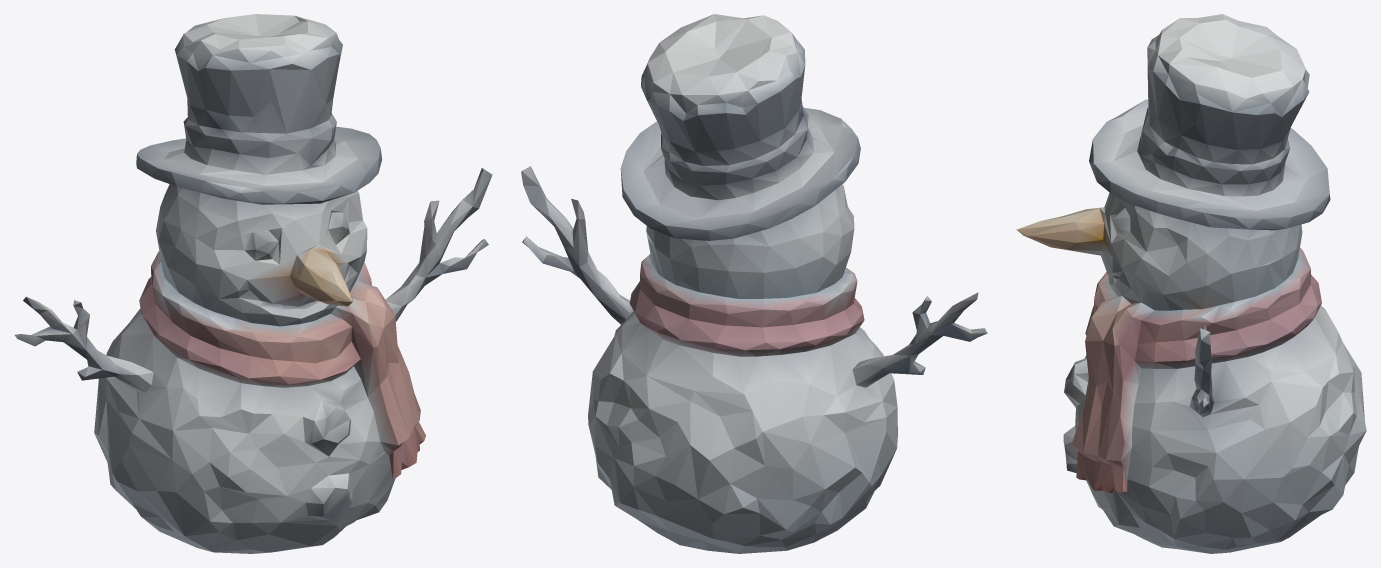
Rendered from gen-snowman-2.glb.
The picture shows the model from 3 angles, left to right: view 1: azimuth 30°, elevation 25°; view 2: azimuth 150°, elevation 25°; view 3: azimuth 270°, elevation 25°; orthographic projection.
Parts seen in each view (by area): view 1: model; view 2: model; view 3: model.
Boxes of the visible parts, left/top/right/bottom form: model: left=14, top=14, right=492, bottom=553; model: left=521, top=14, right=987, bottom=553; model: left=1016, top=14, right=1366, bottom=553.
Size of the model in its own units: 2.76 by 2.8 by 1.79.
